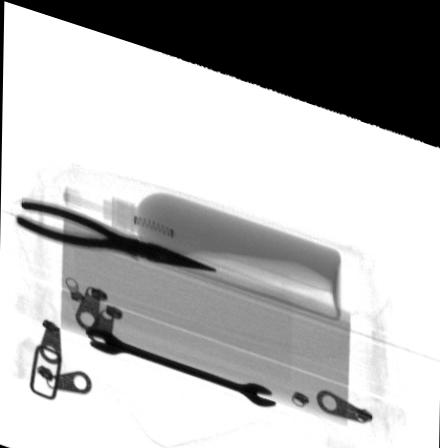Pliers: (14, 197, 217, 256)
Wrench: (86, 324, 277, 392)
